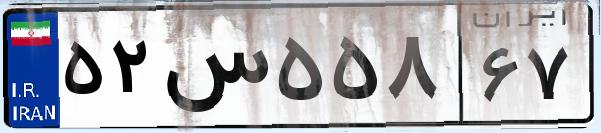2: (110, 28, 158, 98)
5: (270, 28, 330, 110), (330, 28, 385, 110), (57, 26, 110, 100)
6: (475, 38, 525, 113)
7: (525, 38, 570, 115)
8: (385, 28, 445, 110)
س: (158, 20, 270, 120)
